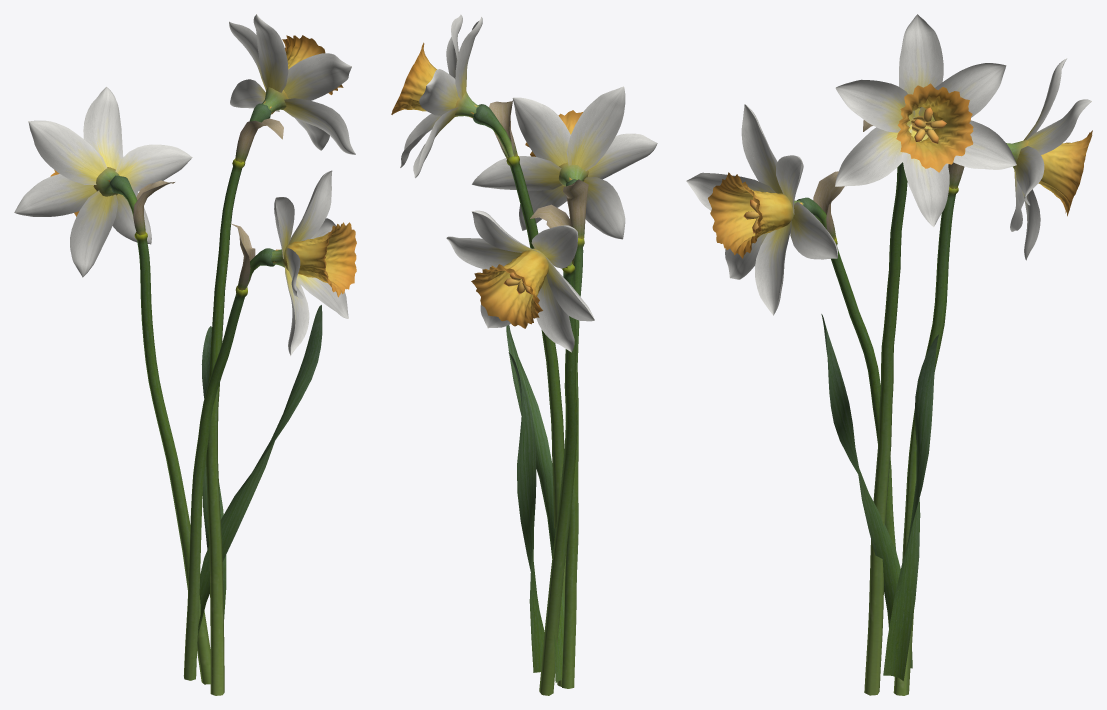
The model's file is daffodil.glb.
3 renders of one model, left to right at view 1: azimuth 30°, elevation 25°; view 2: azimuth 150°, elevation 25°; view 3: azimuth 270°, elevation 25°, orthographic. The views are drawn at different scales.
Visible parts, largest first — view 1: Object_4.002; view 2: Object_4.002; view 3: Object_4.002.
Part boxes in pixels (left/top/right/bottom): Object_4.002: left=14, top=14, right=356, bottom=695; Object_4.002: left=391, top=14, right=657, bottom=695; Object_4.002: left=686, top=14, right=1092, bottom=695.
Size of the model in its own units: 6.53 by 15.77 by 8.18.
Materials: 7 (7 with a texture image).
